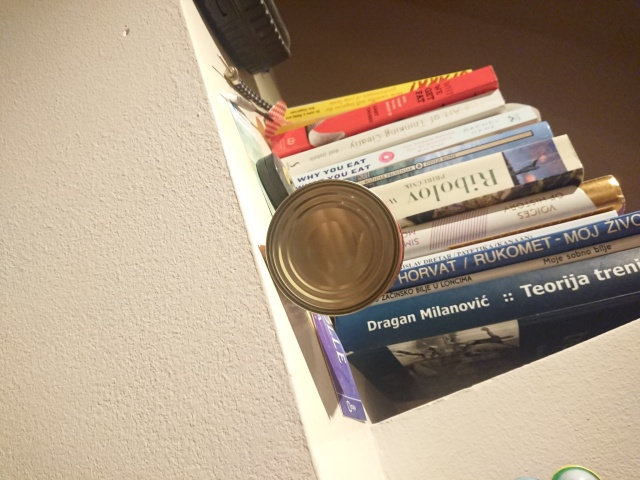Podravka Luncheon Meat 150g: (263, 176, 408, 318)
